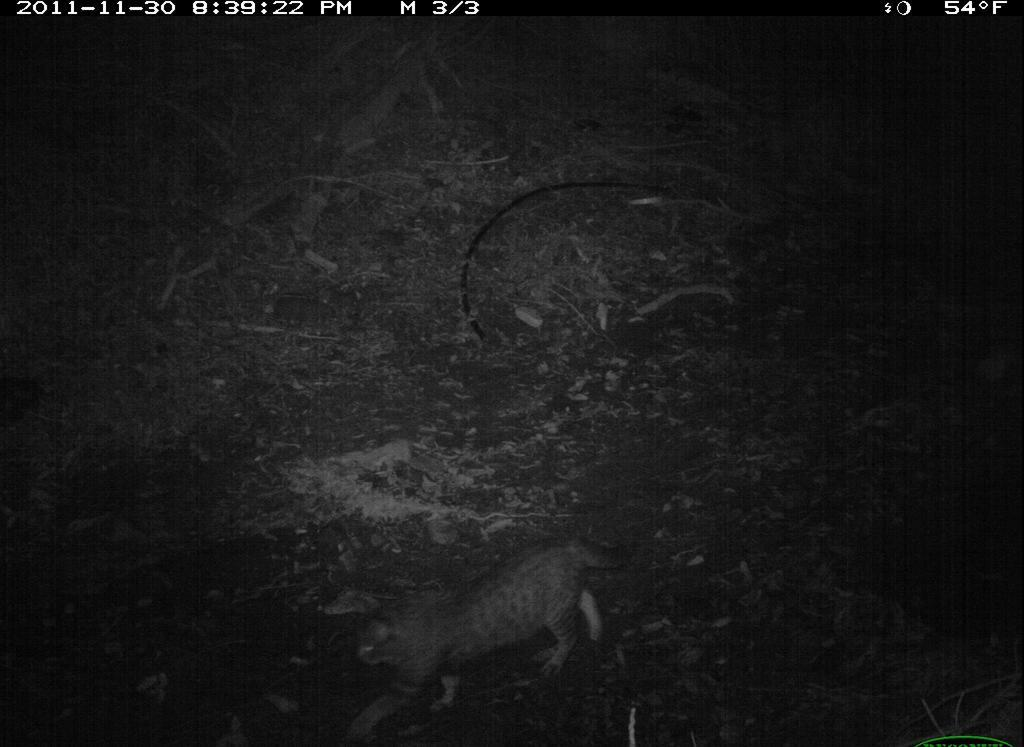cat: (335, 533, 642, 747)
